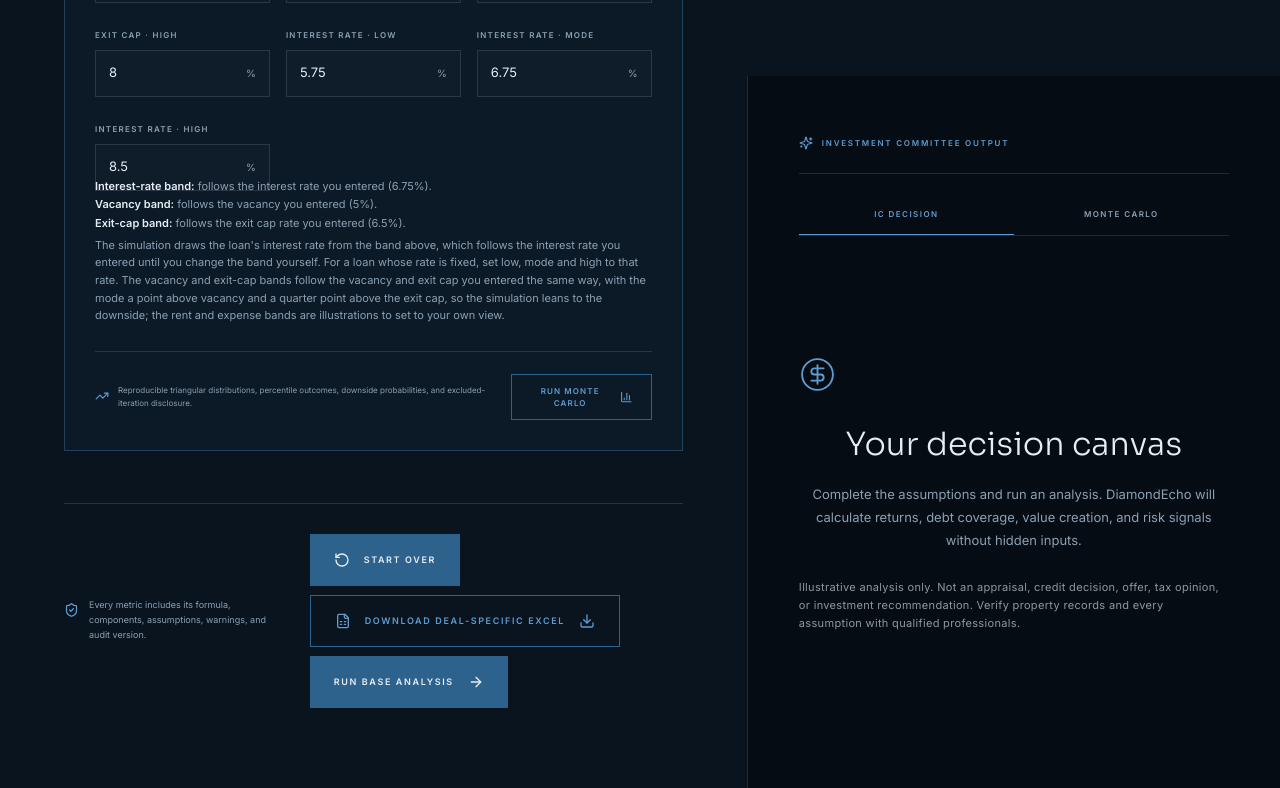
Test: a base response for another strategy is rejected with a recoverable error
(page scrolled)
Click the button "Run base analysis". click: (409,682)
box: [310,656,508,708]
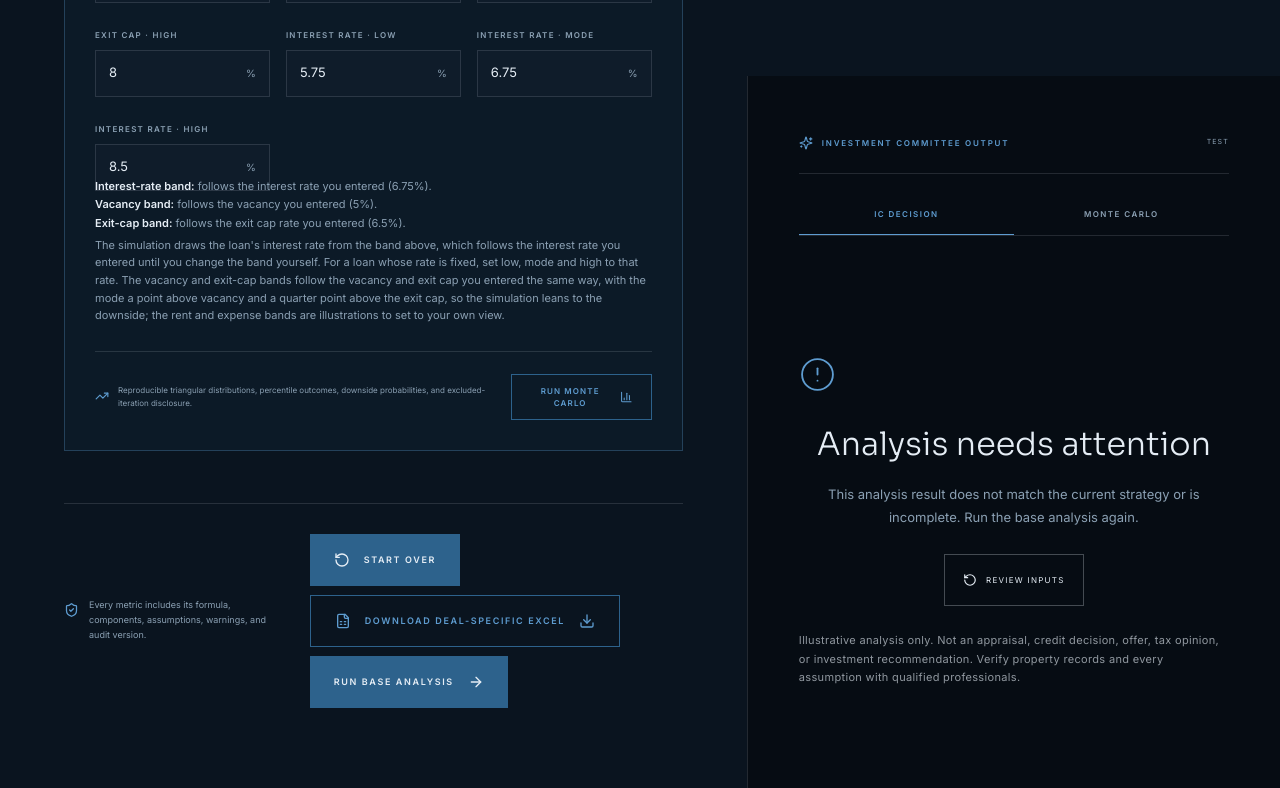
Now the text "This analysis result does not match the current strategy" is shown, box [828,486,1200,525]
Click the button "Review inputs". click: (1014,580)
box: [944,554,1084,606]
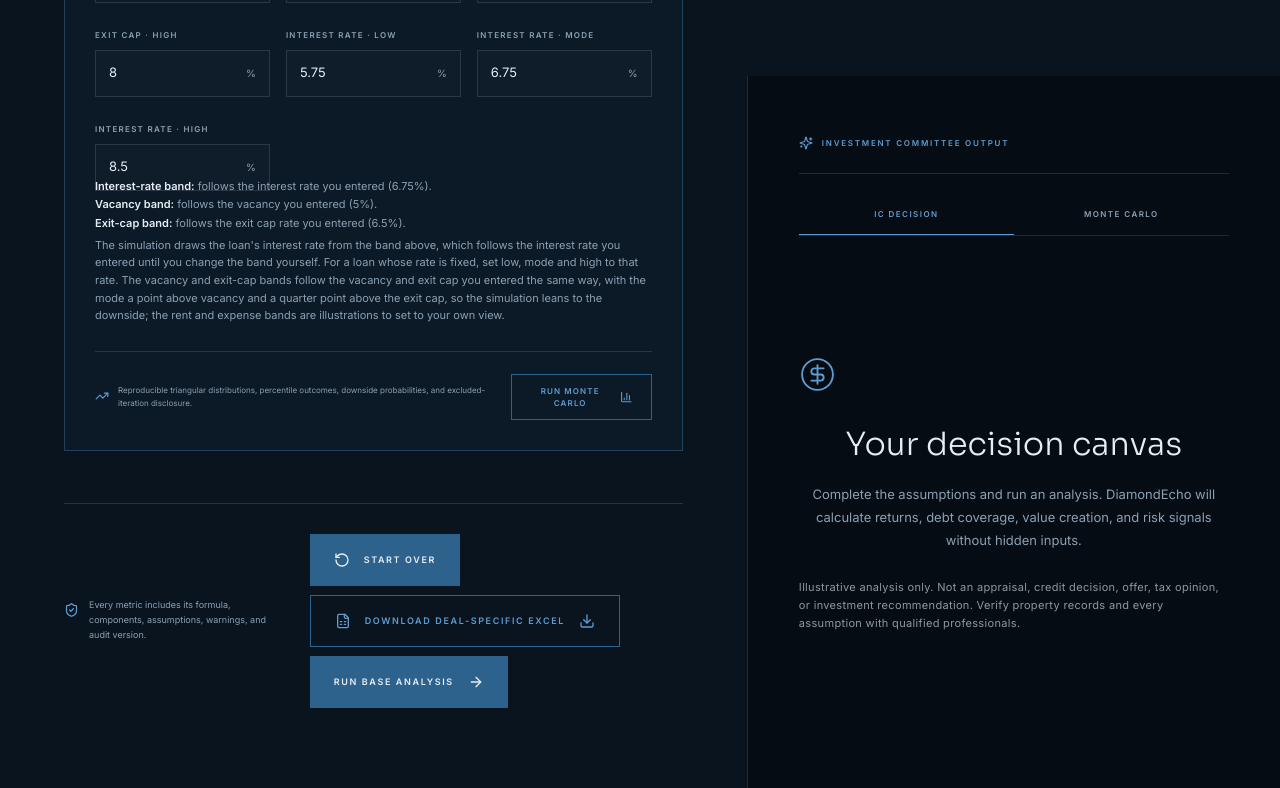
Now the text "Your decision canvas" is shown, box [845,424,1182,464]
